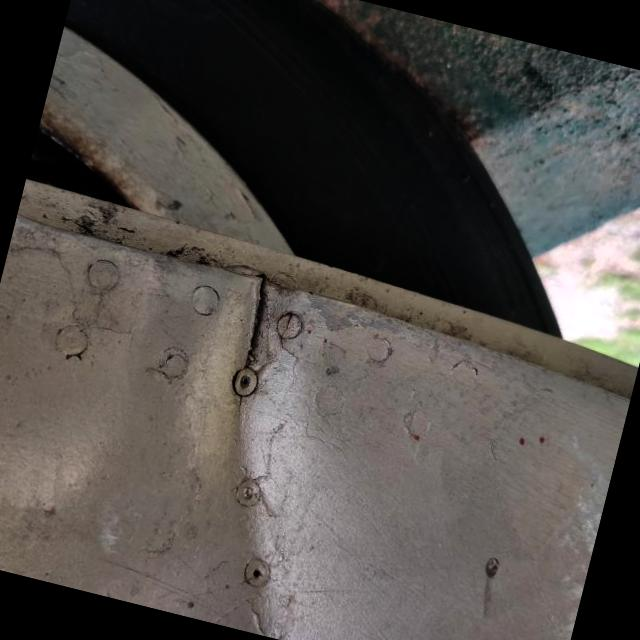crack: (198, 260, 305, 394)
